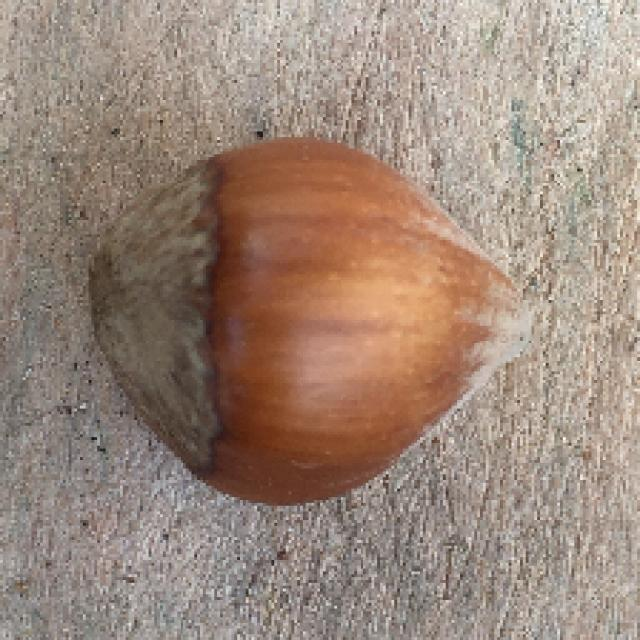qualityHazelnut: (83, 141, 537, 505)
